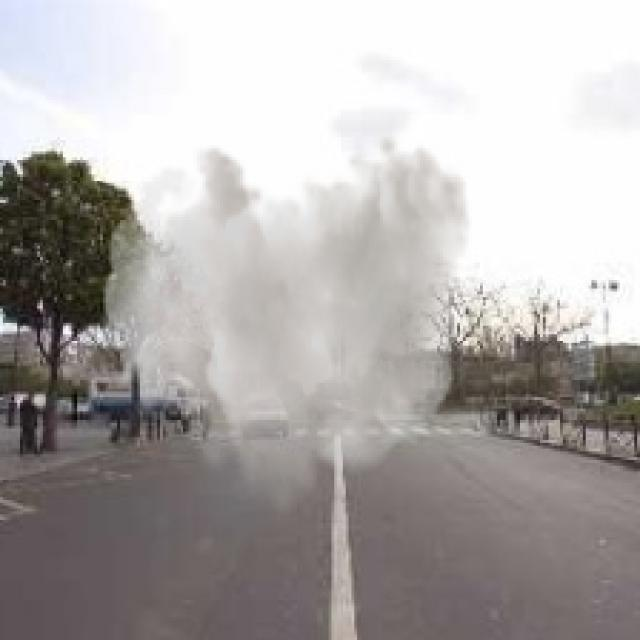smoke: (103, 131, 471, 523)
